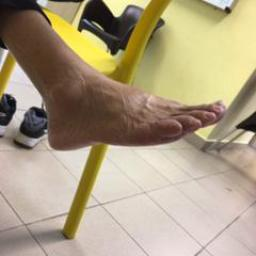Lateral View -Right Foot-: (15, 25, 239, 178)
